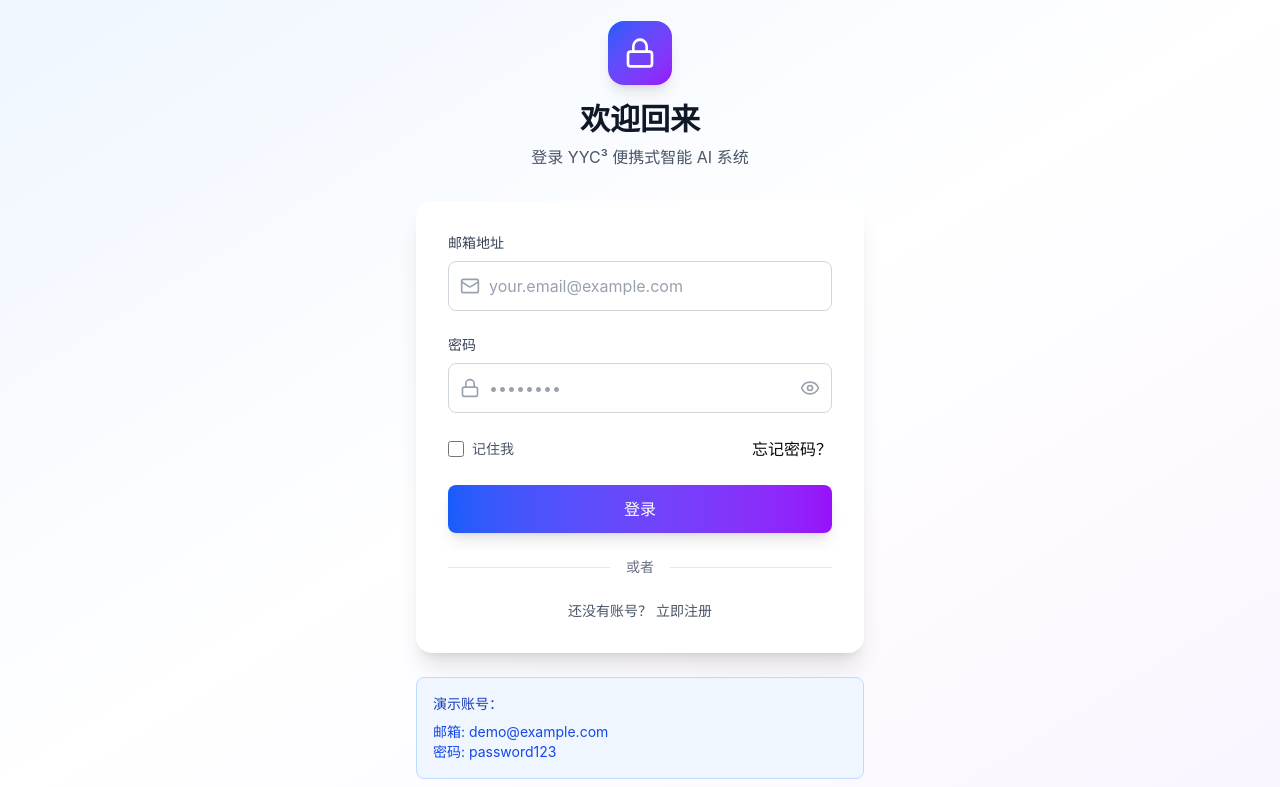
Test: LoginPage › 应该清除字段错误当用户输入
Click the button "登录" at (640, 509), box [448,485,832,533]
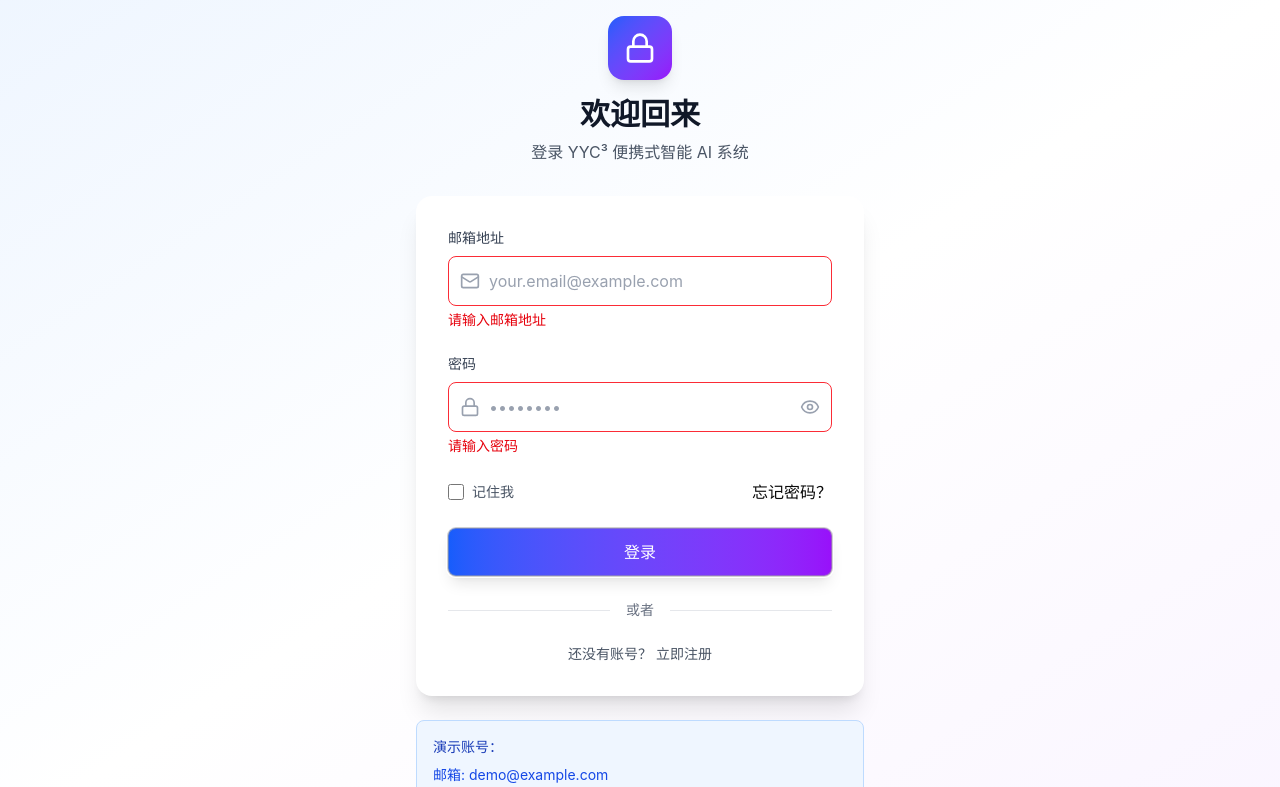
Expected: the text "请输入邮箱地址" is shown, [448,311,546,328]
Type "demo@example.com" into the field with placeholder "your.email@example.com" at (640, 281), box [448,256,832,306]
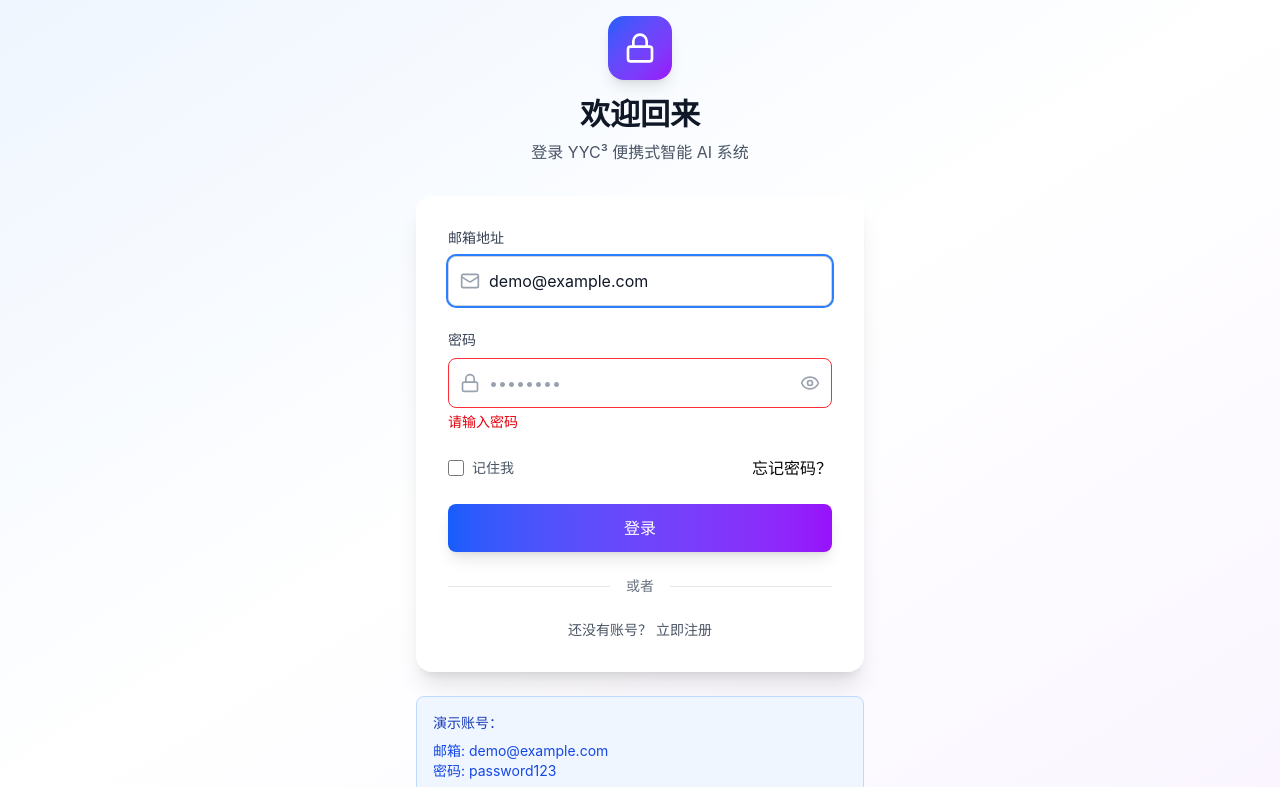
Expected: the text "请输入邮箱地址" is gone
